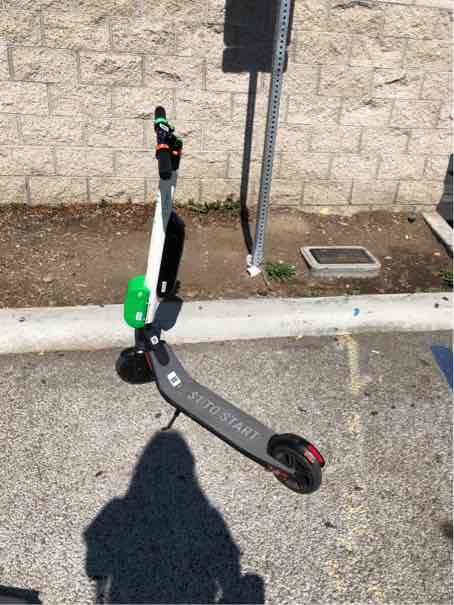scooter: (111, 84, 329, 492)
